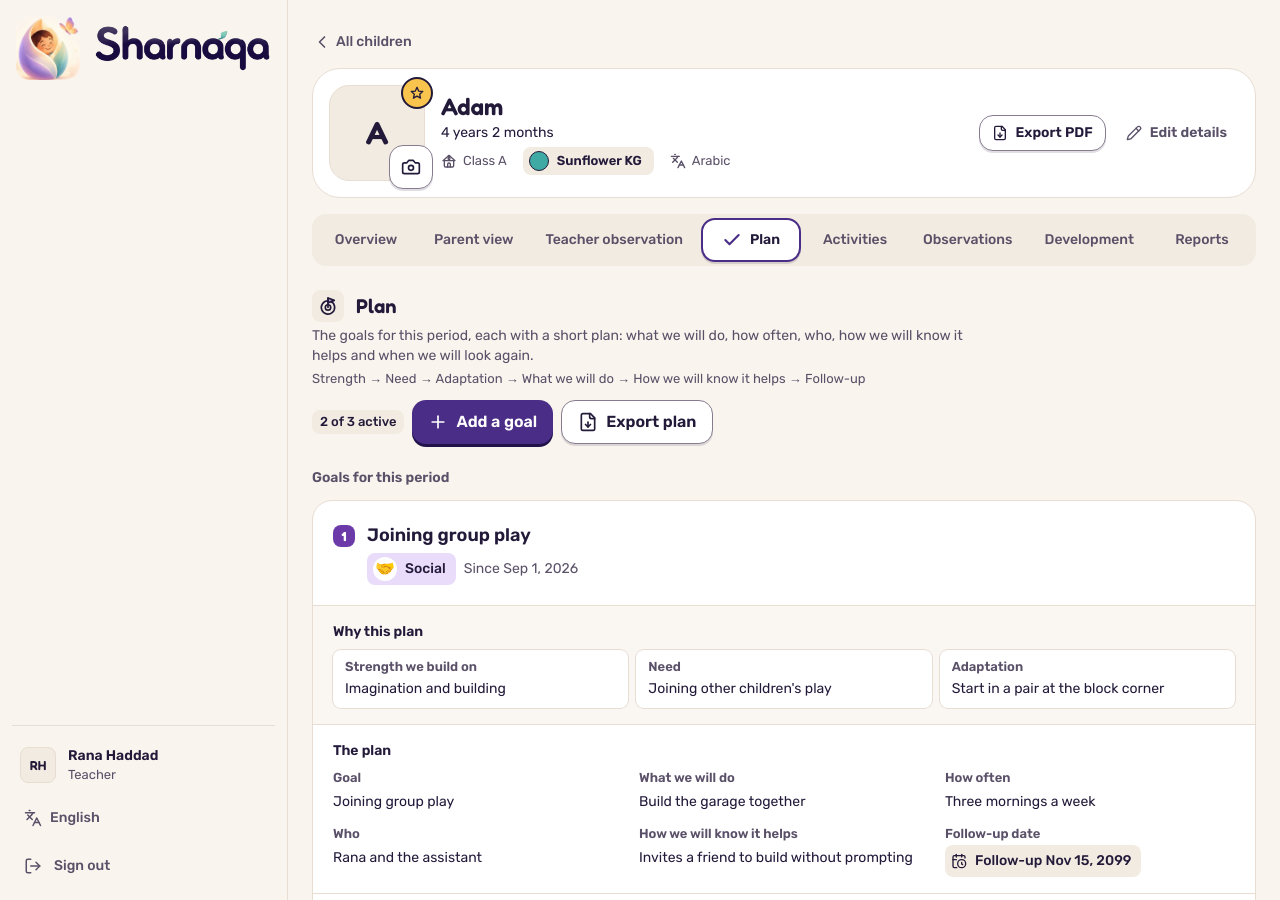
Plan tab › shows the third-goal guidance in the add dialog and no page banner with 2 goals
Expected: the text with test id "focus-count" reads "2 of 3 active", [320, 414, 396, 429]
Click the button "Add a goal": [483, 422] box [412, 400, 553, 444]
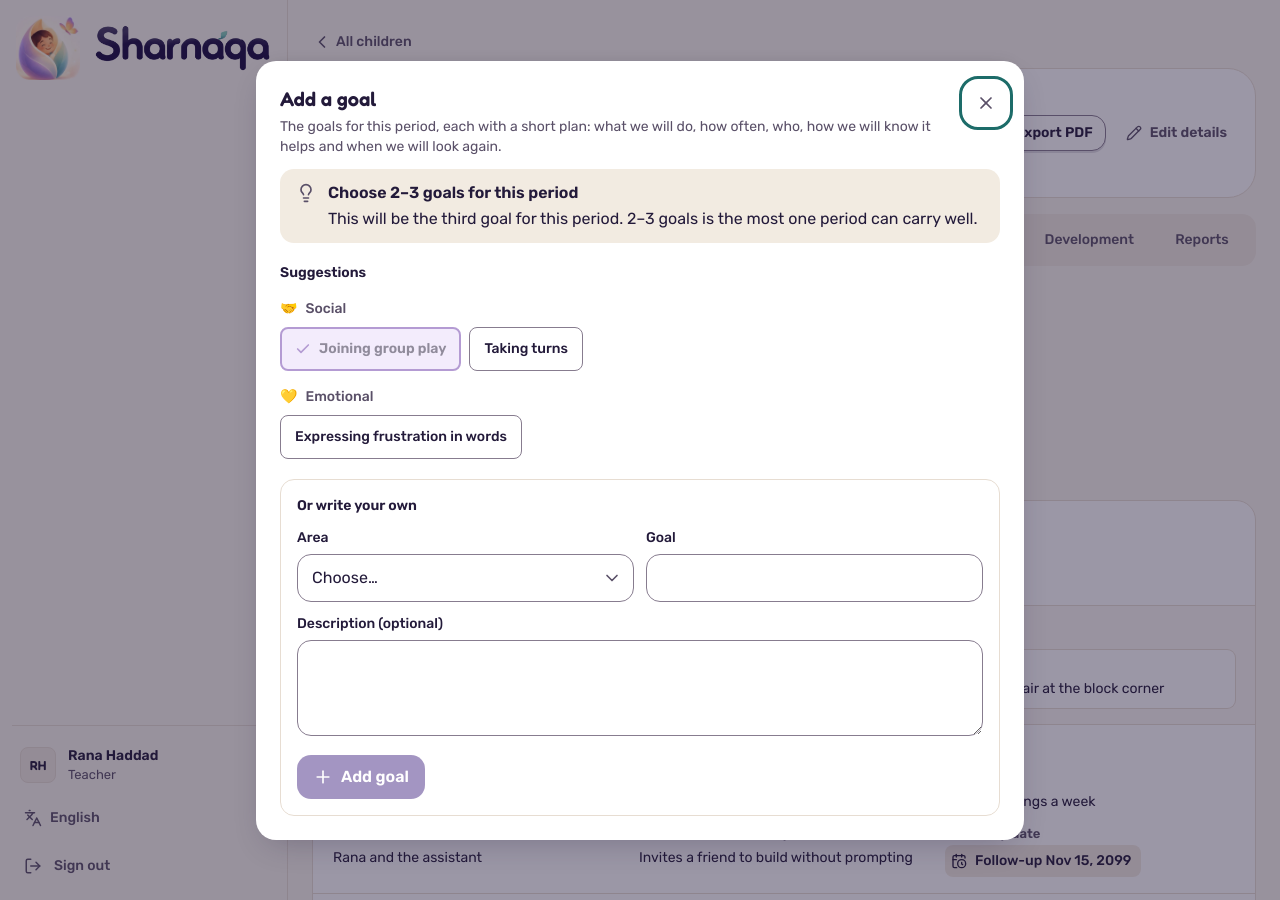
Now the text with test id "third-goal-guidance" is shown, box [328, 208, 978, 228]
